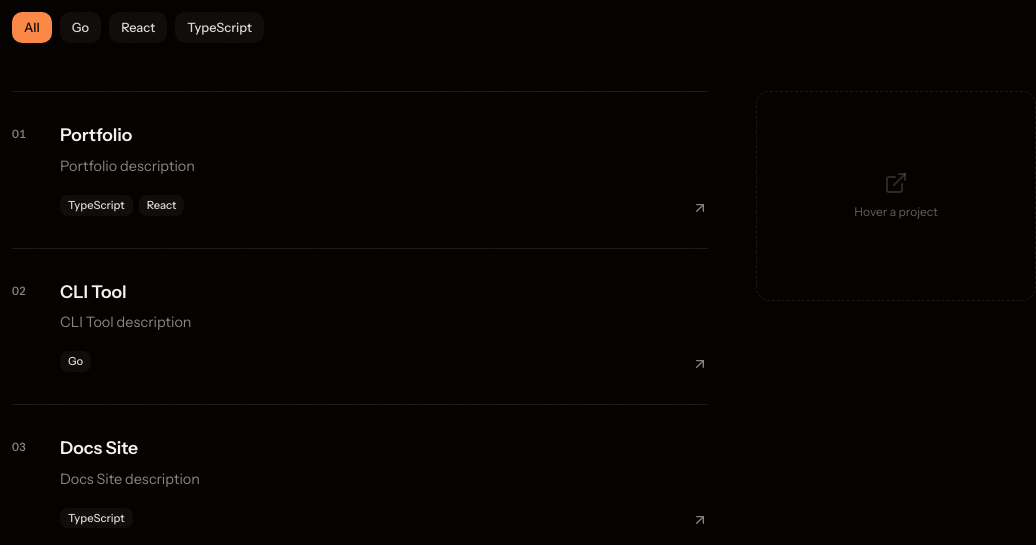
Test: ProjectGrid › toggles the active technology off when clicked a second time
Click the button "Go" at [80, 28], box top-left (60, 12), bottom-right (101, 43)
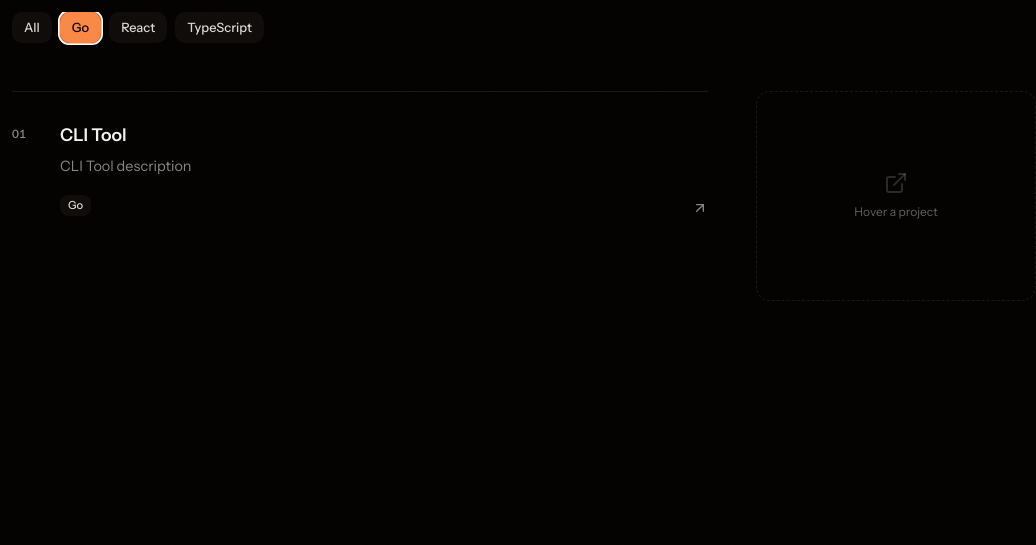
Click the button "Go" at [80, 28], box top-left (60, 12), bottom-right (101, 43)
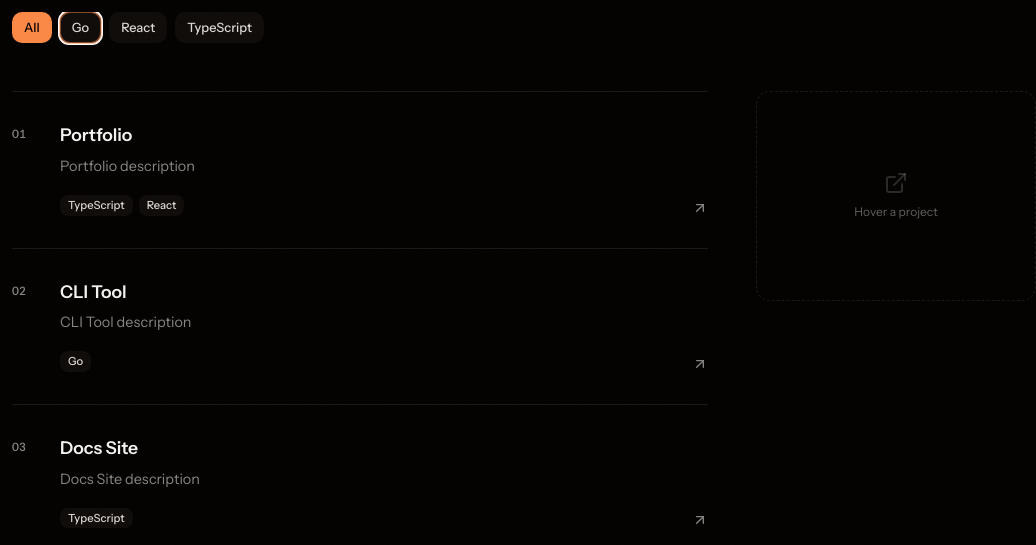
Expected: the link "CLI Tool" is shown, top-left (60, 281), bottom-right (127, 302)
Now the link "Portfolio" is shown, box top-left (60, 124), bottom-right (132, 145)
Now the link "Docs Site" is shown, box top-left (60, 437), bottom-right (138, 458)
